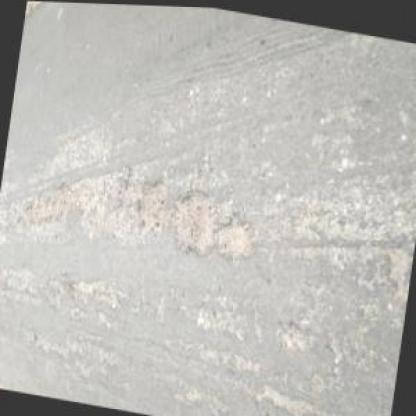pothole: (165, 180, 220, 258), (24, 172, 94, 233), (133, 172, 173, 241), (210, 208, 260, 262), (249, 377, 318, 415), (380, 238, 413, 286), (276, 318, 312, 353)
